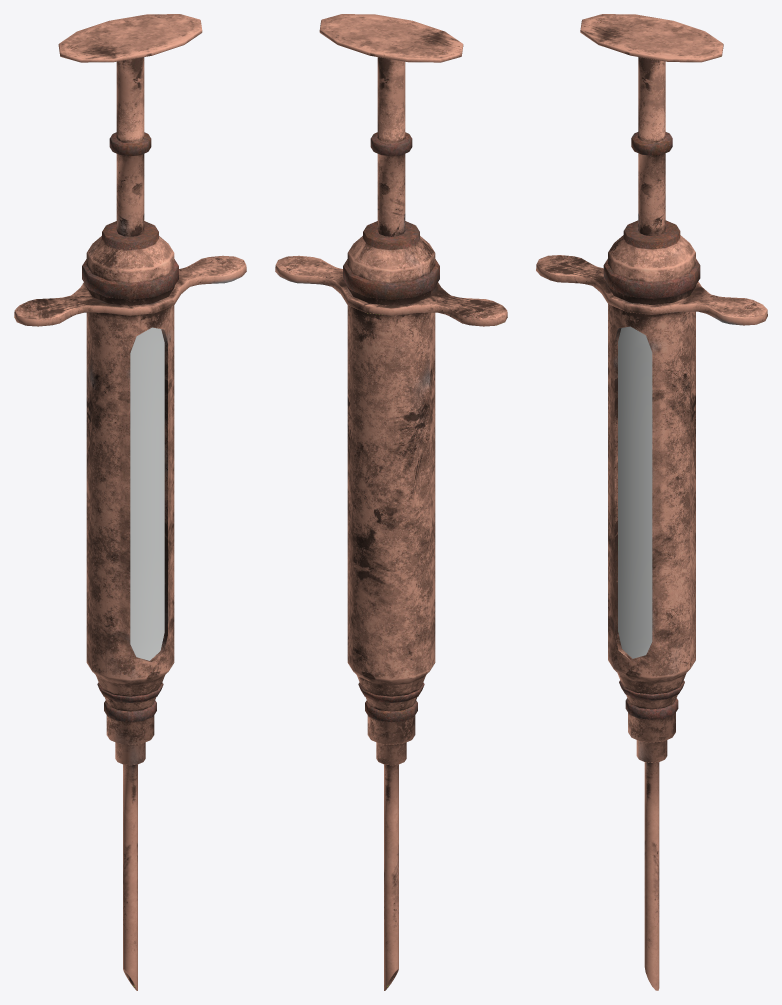
Rendered from Spritze.fbx.
The picture shows the model from 3 angles, left to right: view 1: azimuth 30°, elevation 25°; view 2: azimuth 150°, elevation 25°; view 3: azimuth 330°, elevation 25°; orthographic projection.
Visible parts, largest first — view 1: Igla, Igla.002, Igla.001; view 2: Igla, Igla.001; view 3: Igla, Igla.002, Igla.001.
Part boxes in pixels (box(x1,y1,x2,y2)): Igla: box(14, 221, 246, 990); Igla.002: box(130, 327, 164, 660); Igla.001: box(58, 14, 202, 236); Igla: box(275, 221, 507, 990); Igla.001: box(319, 14, 463, 236); Igla: box(536, 220, 767, 990); Igla.002: box(618, 326, 652, 658); Igla.001: box(580, 14, 723, 235).
Bounding box in the file's own units: 145 × 581 × 55.78.
Materials: 1 (1 with a texture image).
